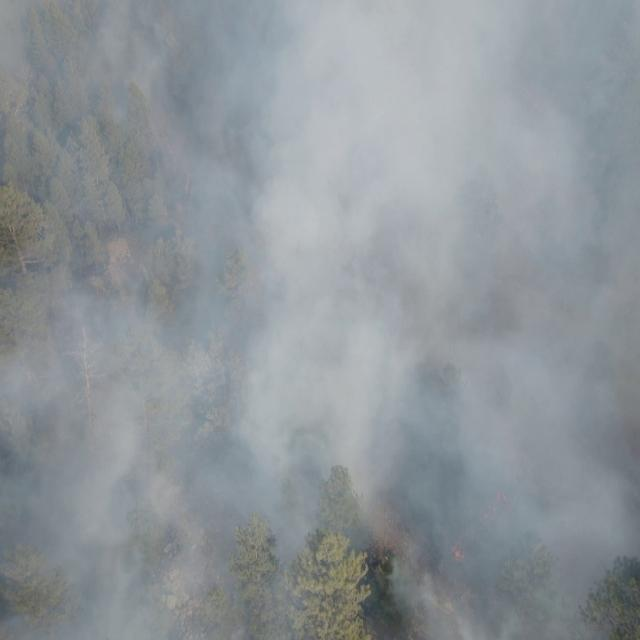fire: (476, 491, 512, 529), (448, 538, 470, 564), (181, 169, 191, 195)
smoke: (0, 0, 640, 640)
